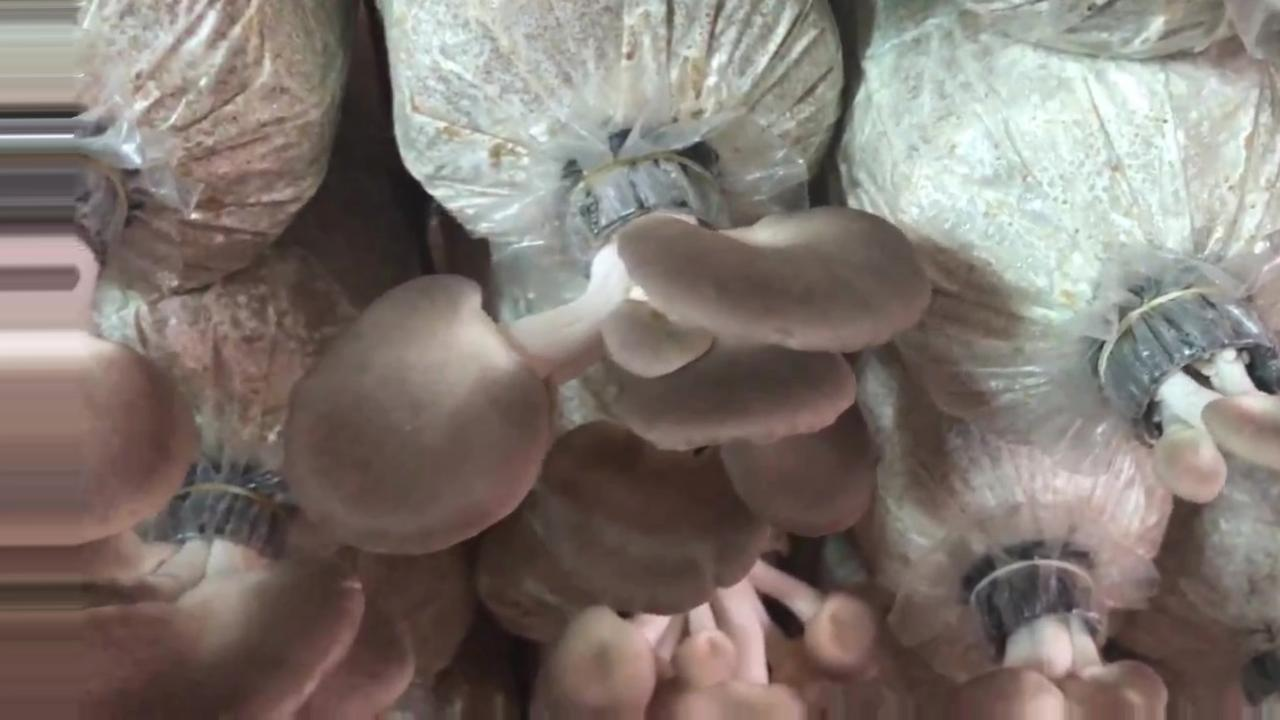nam: (288, 162, 932, 614), (1, 159, 189, 545), (538, 559, 874, 720), (946, 556, 1167, 720), (1135, 293, 1280, 500)
